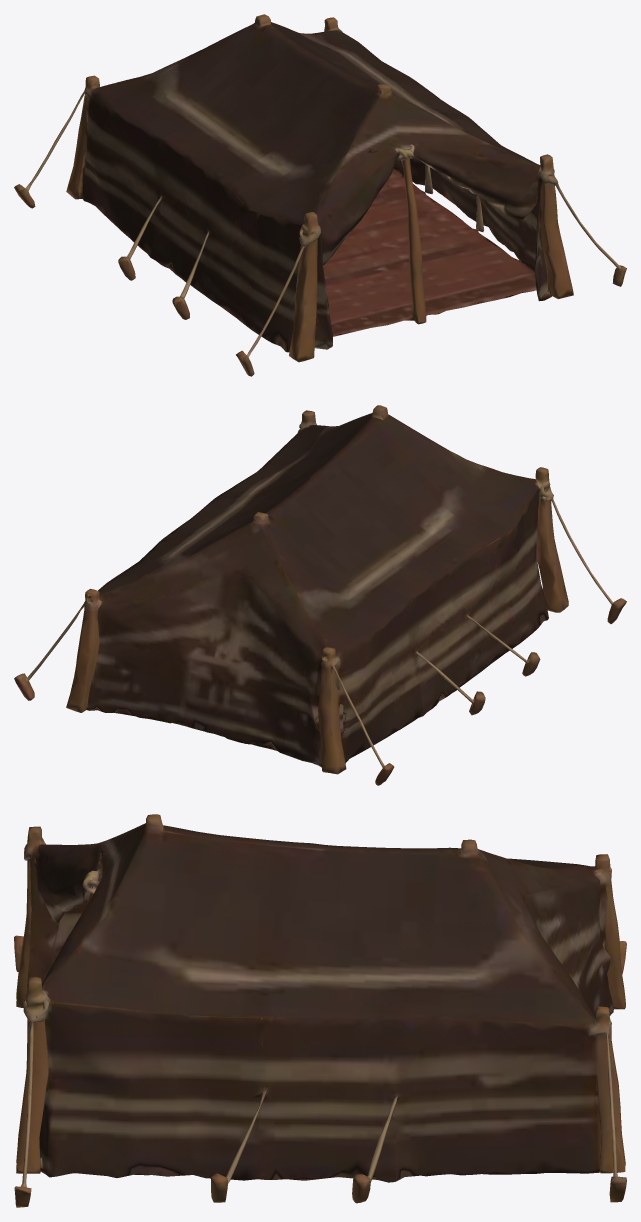
The model's file is tent.glb.
The picture shows the model from 3 angles, top to bottom: view 1: azimuth 30°, elevation 25°; view 2: azimuth 150°, elevation 25°; view 3: azimuth 270°, elevation 25°; orthographic projection. The views are drawn at different scales.
Parts seen in each view (by area): view 1: world; view 2: world; view 3: world.
Boxes of the visible parts, box(x1,y1,x2,y2) form: world: box(14, 14, 626, 376); world: box(14, 405, 626, 785); world: box(14, 814, 626, 1207).
Size of the model in its own units: 6.69 by 3.47 by 7.
1 material, 1 textured.
